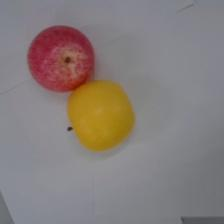red: (26, 25, 95, 93)
yellow: (66, 79, 136, 151)
